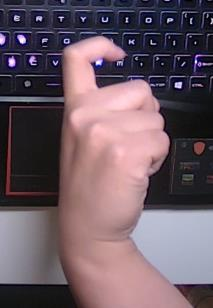anticlockwise: (49, 31, 173, 242)
